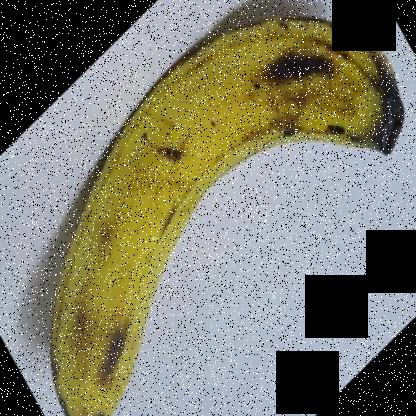ripe: (38, 1, 409, 416)
